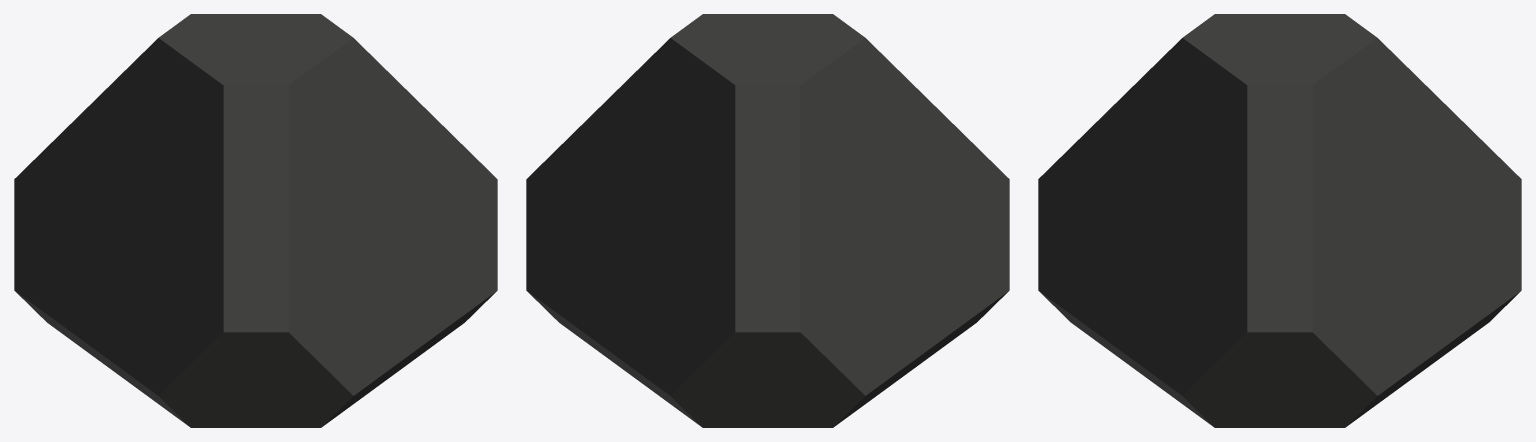
File: rock.obj
The picture shows the model from 3 angles, left to right: view 1: azimuth 30°, elevation 25°; view 2: azimuth 150°, elevation 25°; view 3: azimuth 270°, elevation 25°; orthographic projection.
Size of the model in its own units: 1.85 by 1.32 by 1.96.
Materials: 1 (1 with a texture image).
